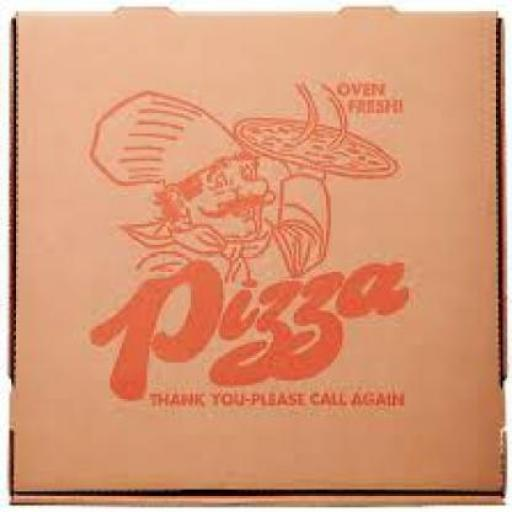cardboard: (4, 0, 510, 506)
